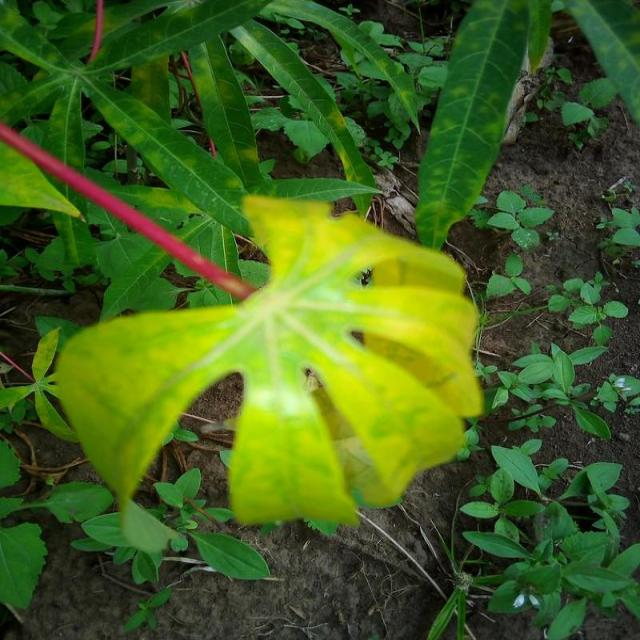cassava leaf: (52, 190, 486, 553)
